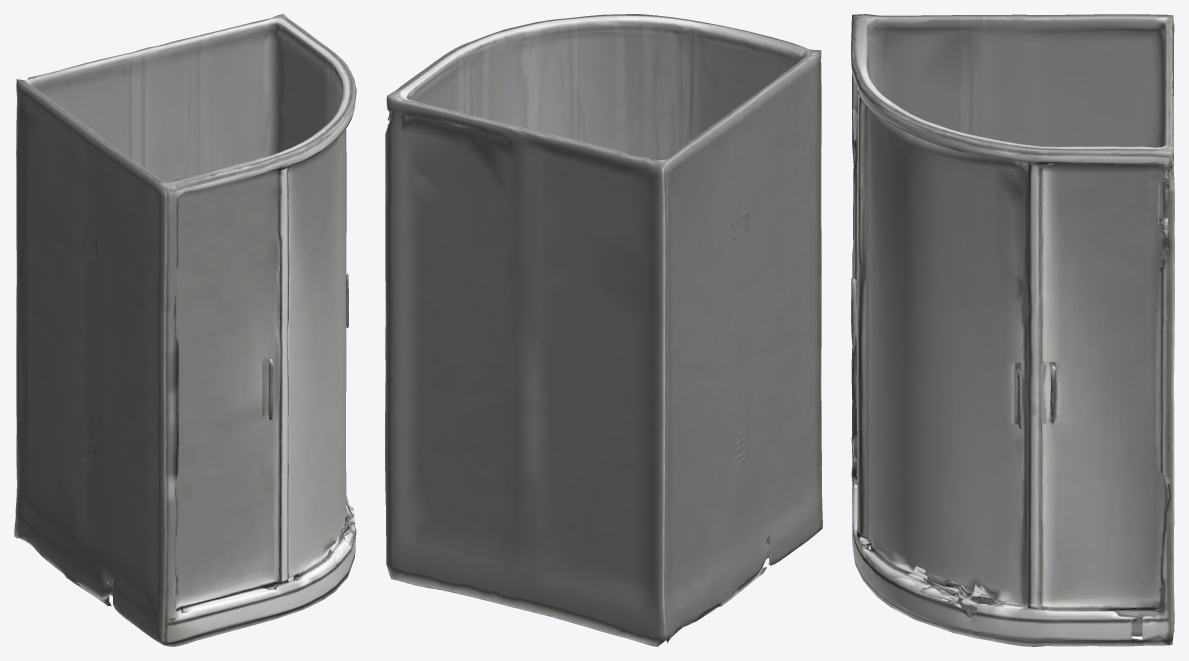
The model's file is shower_enclosure_binhnham.glb.
3 views of the same model, side by side, from view 1: azimuth 30°, elevation 25°; view 2: azimuth 150°, elevation 25°; view 3: azimuth 270°, elevation 25° (orthographic). The views are drawn at different scales.
Visible parts, largest first — view 1: Mesh1_Material.001_0; view 2: Mesh1_Material.001_0; view 3: Mesh1_Material.001_0.
Part boxes in pixels (x1,y1,x2,y2): Mesh1_Material.001_0: (14,14,356,646); Mesh1_Material.001_0: (385,14,822,646); Mesh1_Material.001_0: (851,14,1174,646).
Size of the model in its own units: 1.22 by 2.02 by 1.19.
1 material, 1 textured.
